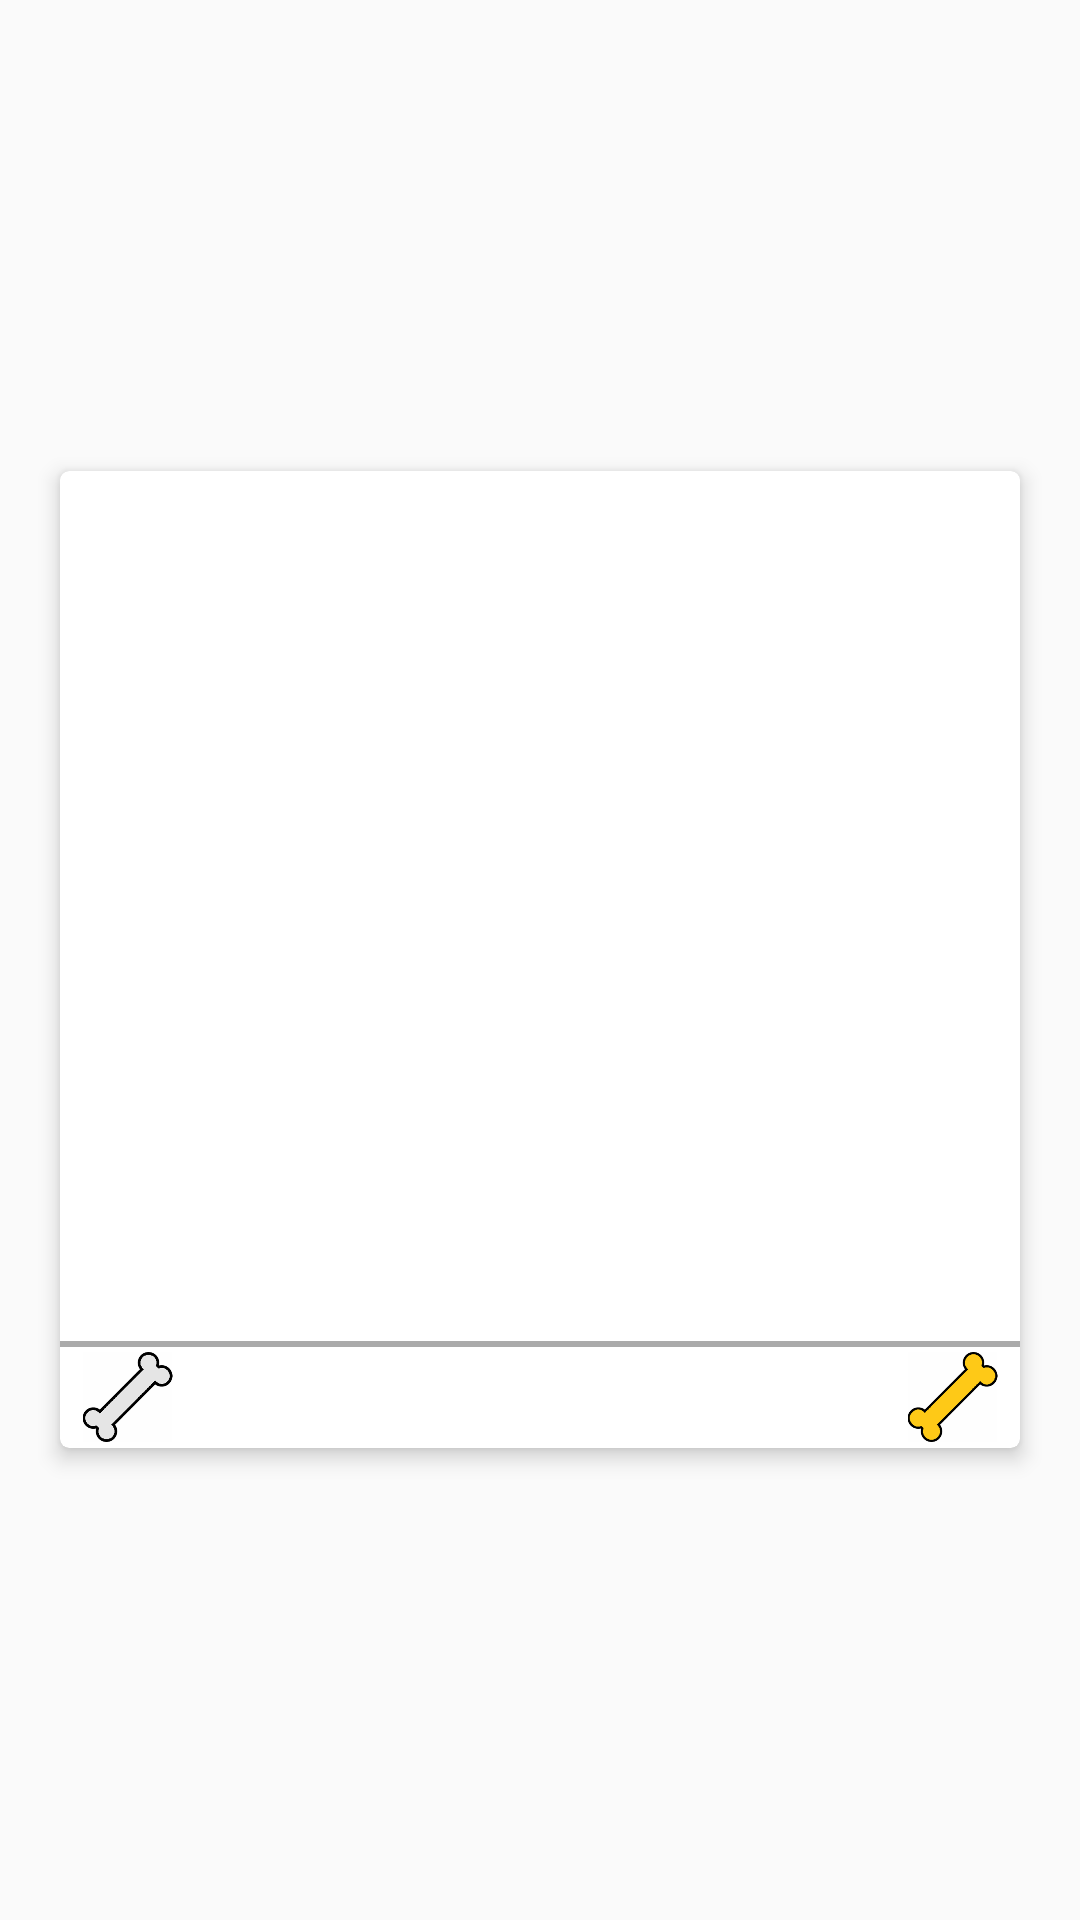

Point at icon controls on the screen. Image size 1080px x 1920px, points as [x,y].
bone: [128,1397], [953,1397]
